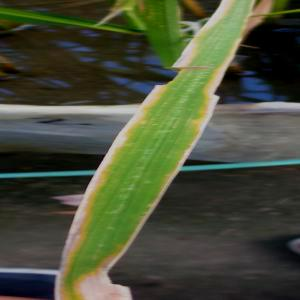2 BacterialBlight: (62, 111, 176, 300)
